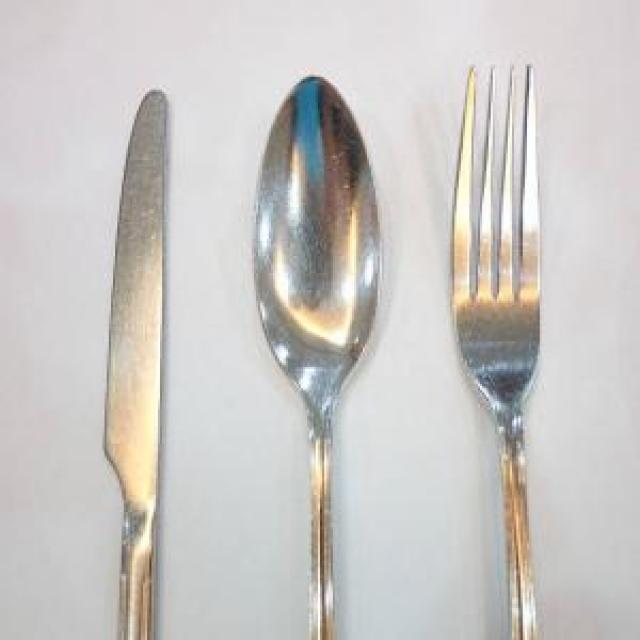knife: (98, 85, 173, 638)
